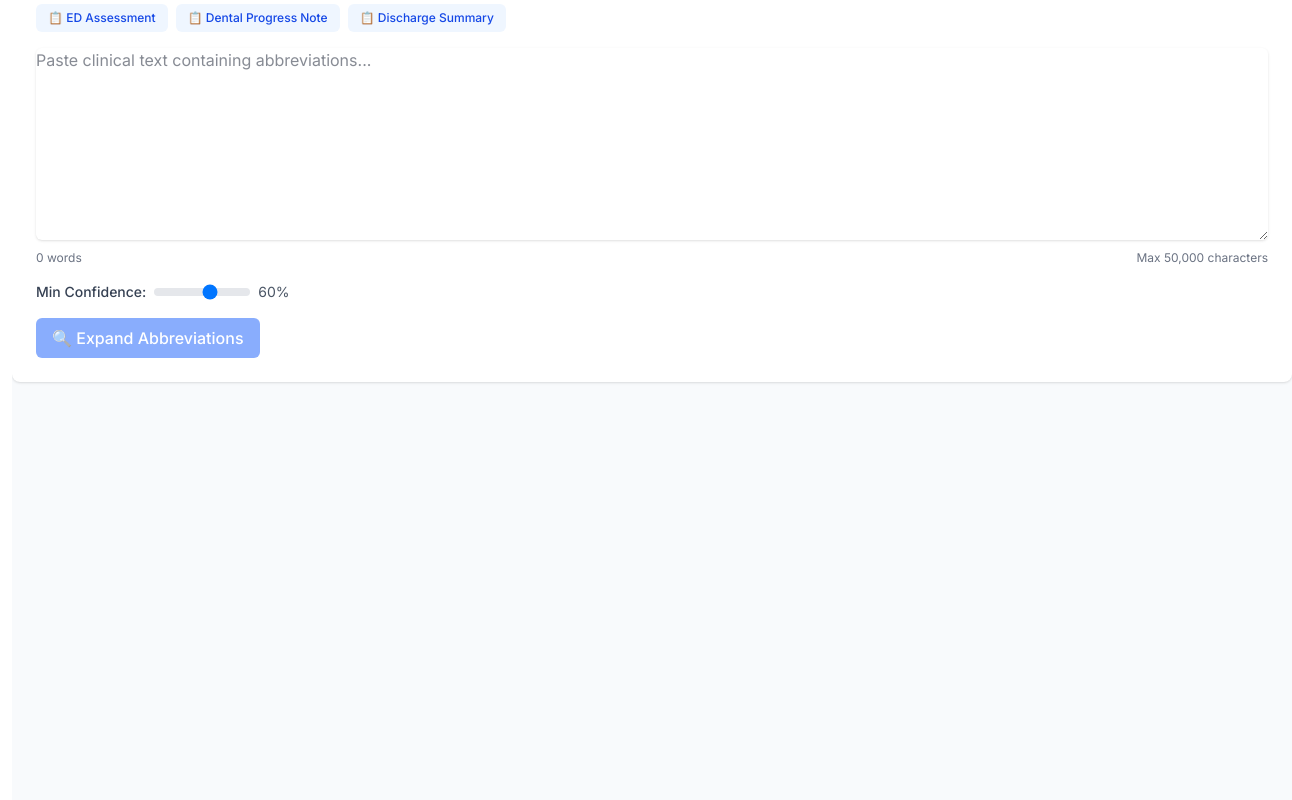
Scenario: AbbreviationExpander — API Integration › displays detected abbreviations in table
The width and height of the screenshot is (1292, 800).
Click the button "📋 ED Assessment" at (102,18), box [36,4,168,32]
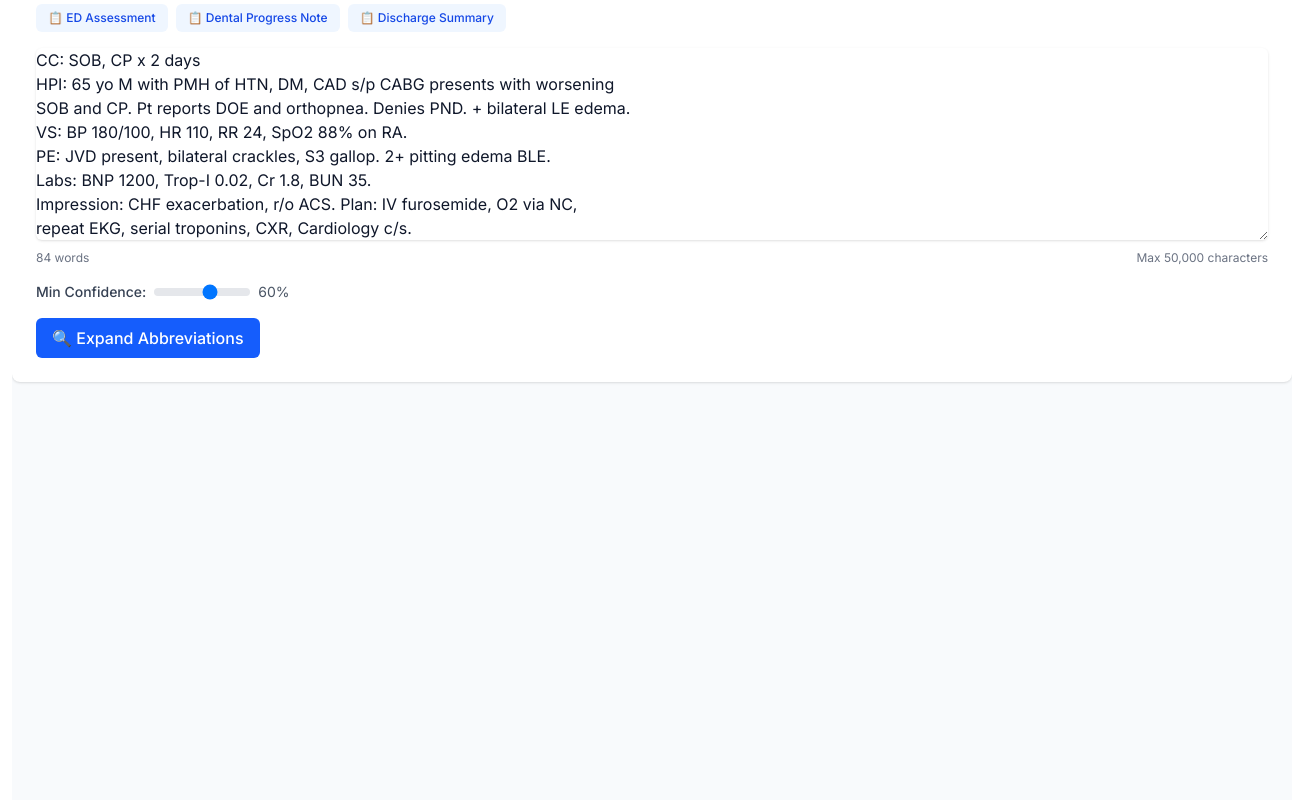
Click the button "🔍 Expand Abbreviations" at (148,338), box [36,318,260,358]
(page scrolled)
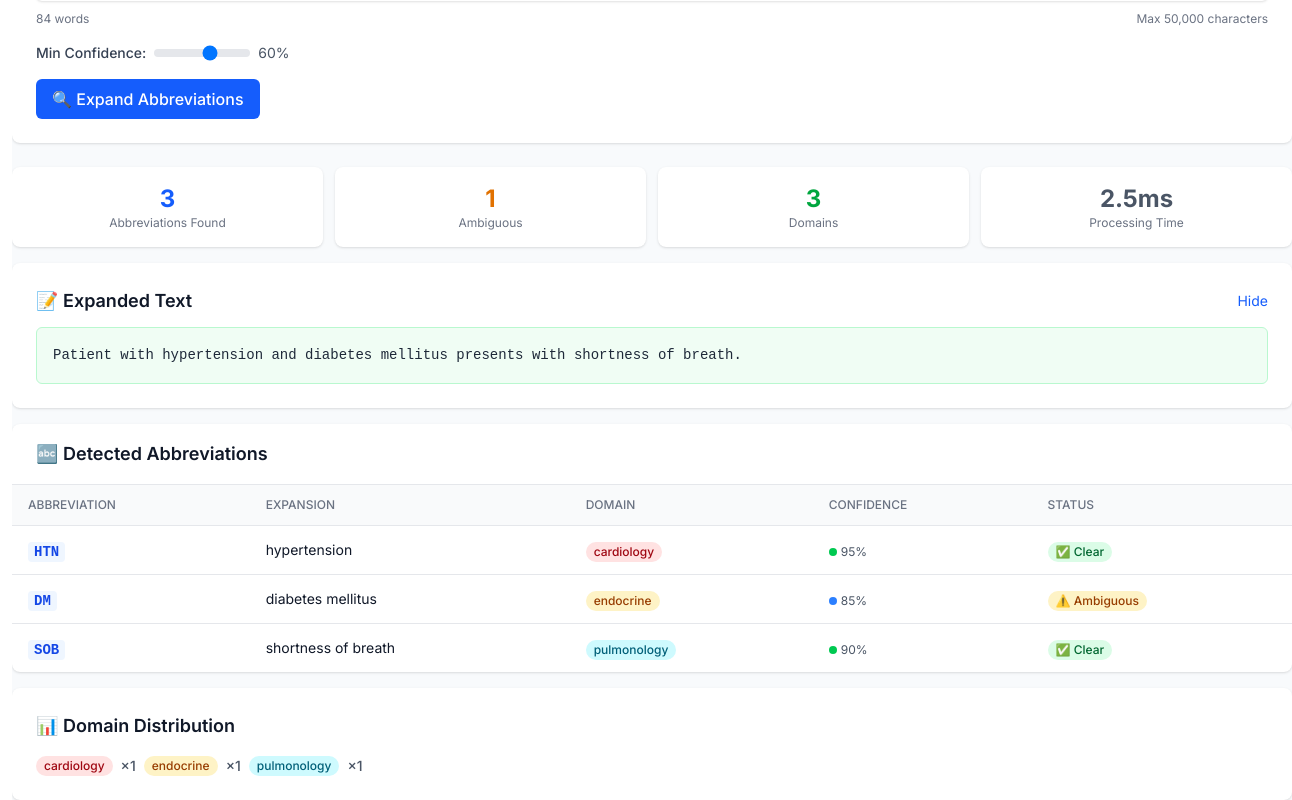
Expected: the text "HTN" is shown, [28,542,65,562]
Expected: the text "hypertension" is shown, [250,525,570,574]
Expected: the text "DM" is shown, [28,591,57,611]
